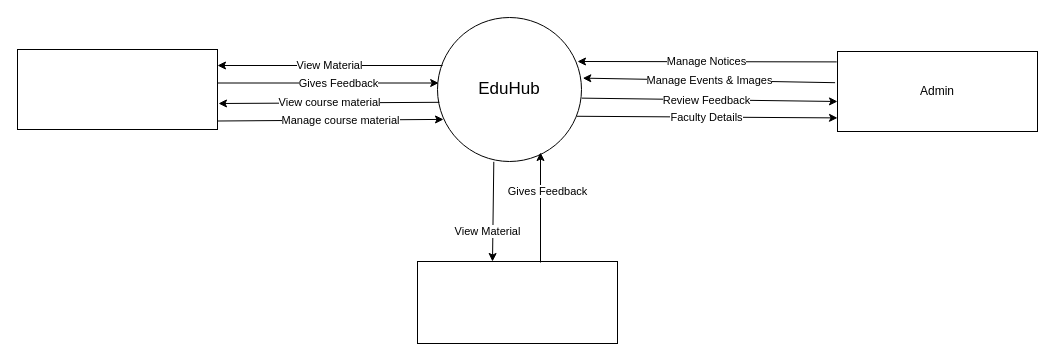
Some shapes in this 1055 by 361 pixel diagram are drawn without their labels. Here are the shapes that lost their labels. From the top down, the box of each, then its label:
(16, 48, 218, 130): Faculty
(416, 260, 618, 344): Student
